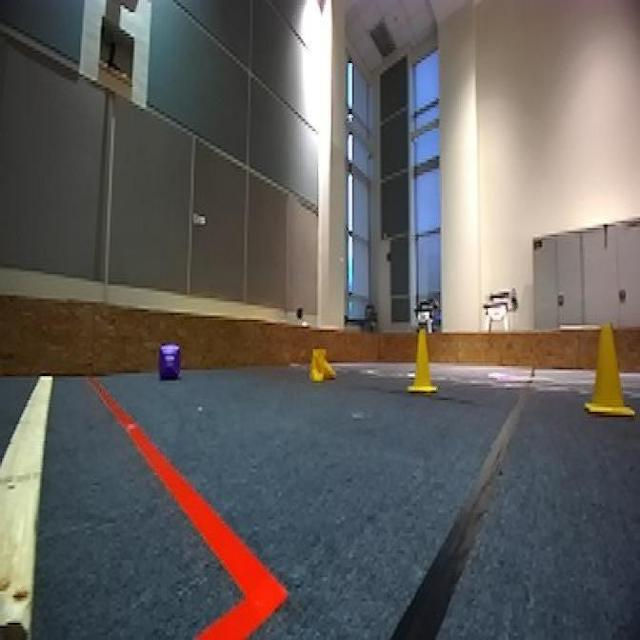frc_cone: (584, 325, 628, 415), (407, 325, 440, 395), (308, 347, 339, 383)
frc_cube: (157, 340, 182, 380)
